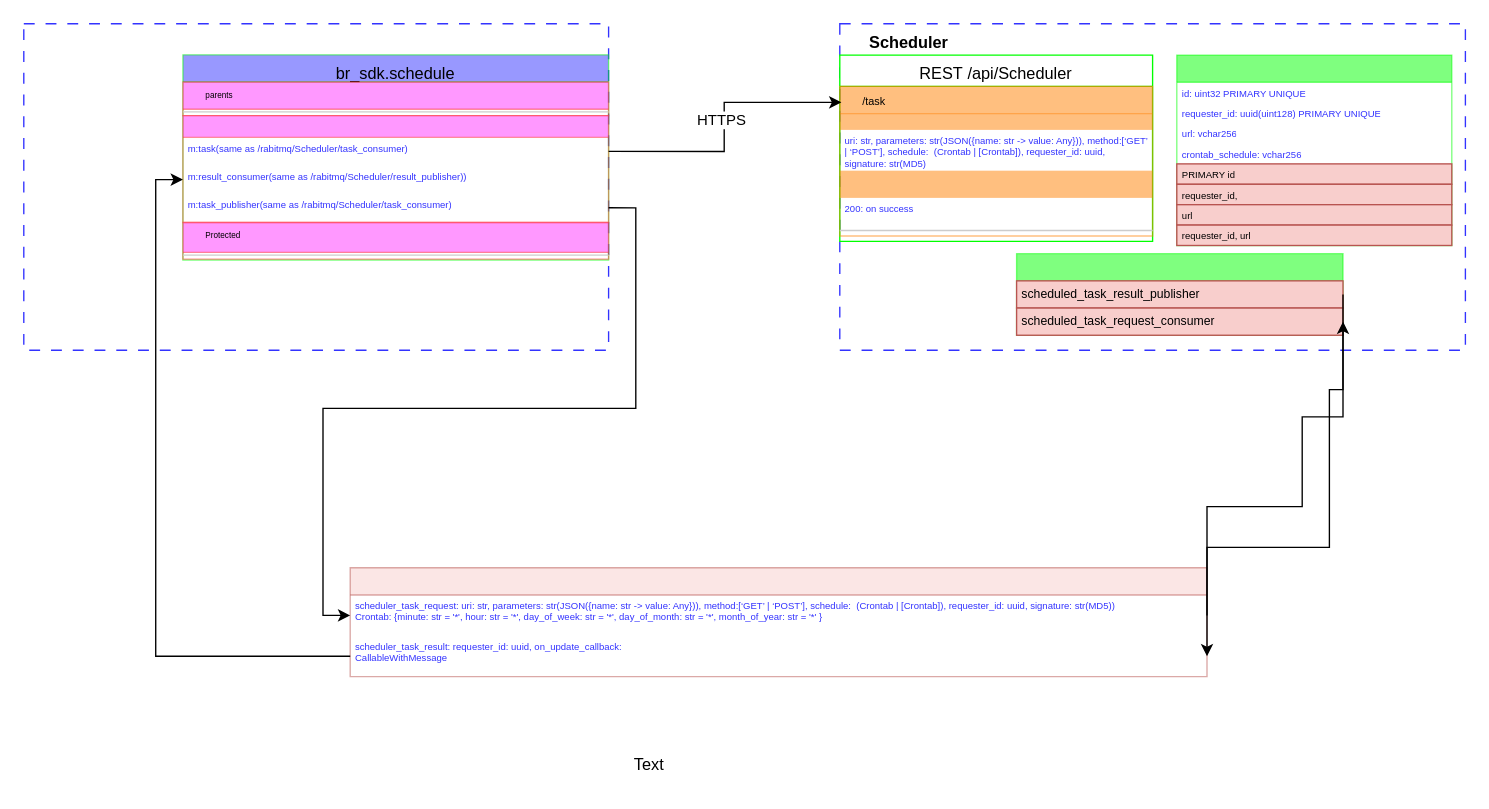
Some shapes in this 1489 by 809 pixel diagram are drawn without their labels. The shapes that lost their labels are listed below. From the top down, each one's box as (x1, y1, x2, y2) in pixels, then its label:
(839, 113, 1152, 129): POST input
(182, 114, 609, 222): Public
(1175, 54, 1452, 245): DB Table
(22, 22, 609, 350): user service
(839, 170, 1152, 197): returns
(349, 566, 1207, 677): RabitMQ
